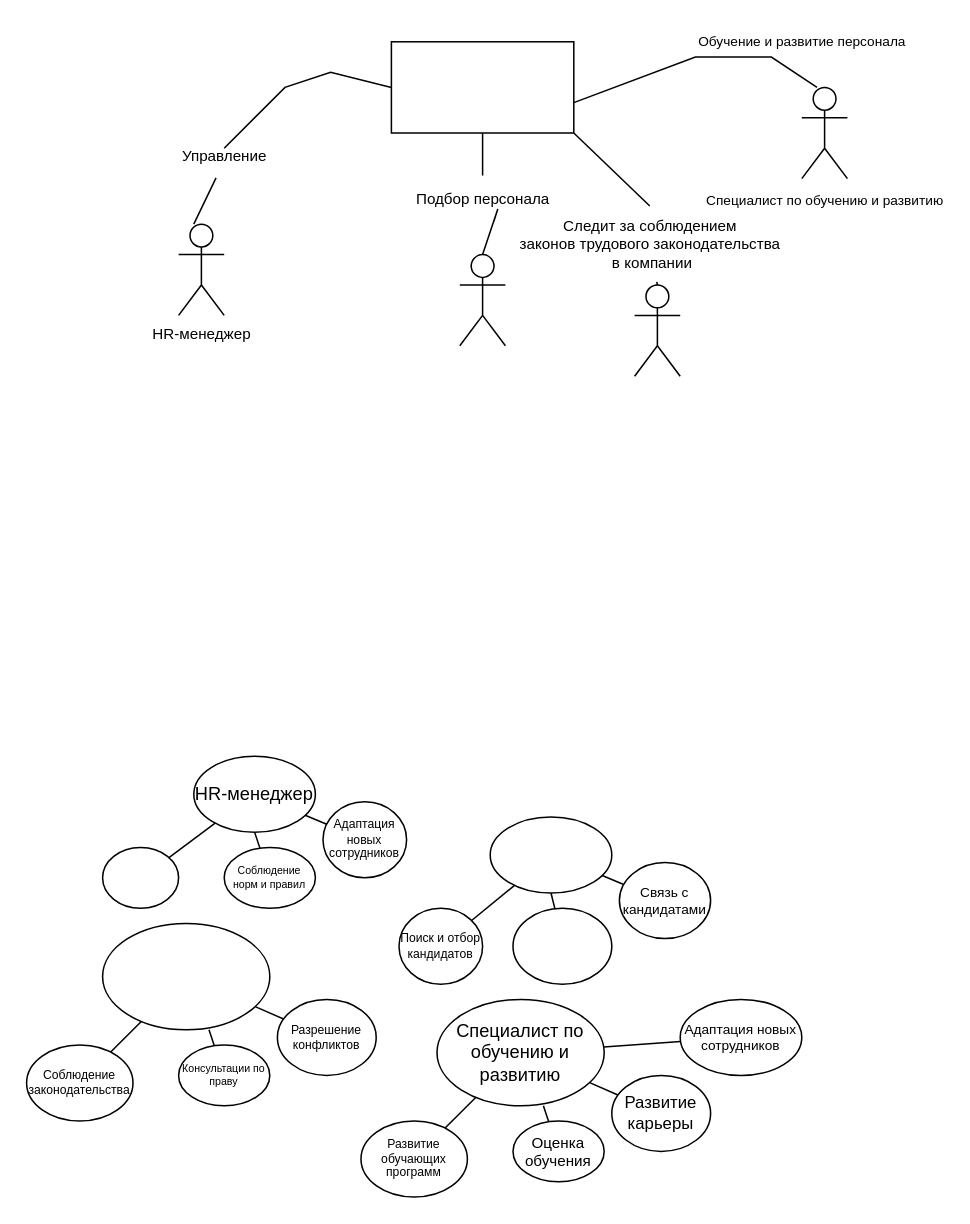
The diagram is 970 pixels wide and 1224 high, and some of its shapes have lost their labels. The shapes that lost their labels are listed below. From the top down, each one's centre as x and y in pixels, then its label:
the point at 482,86: Предприятие
the point at 481,299: Рекрутер
the point at 656,329: Юрист по трудовому праву
the point at 550,854: Рекрутёр
the point at 140,877: Управление персоналом
the point at 561,945: Собеседования и оценка навыков
the point at 185,976: Специалист по трудовому праву
